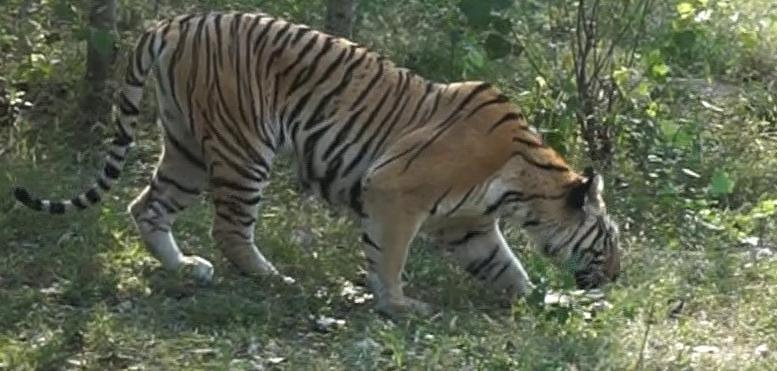tiger: (15, 12, 619, 312)
